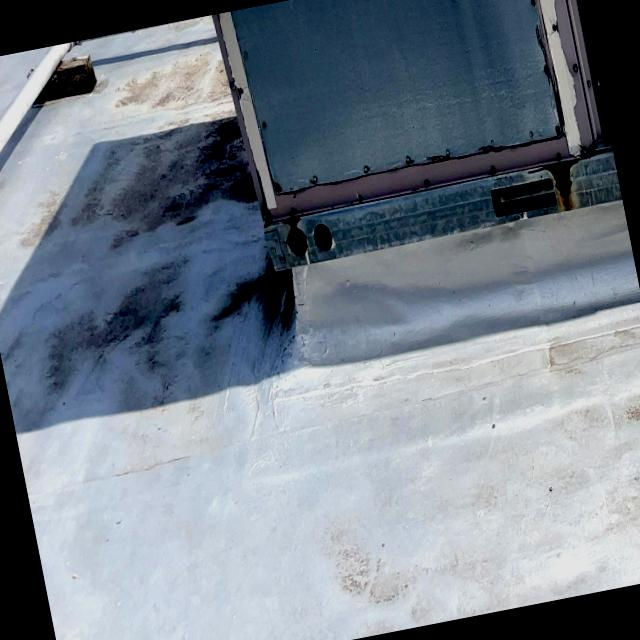RTU: (192, 0, 626, 294)
